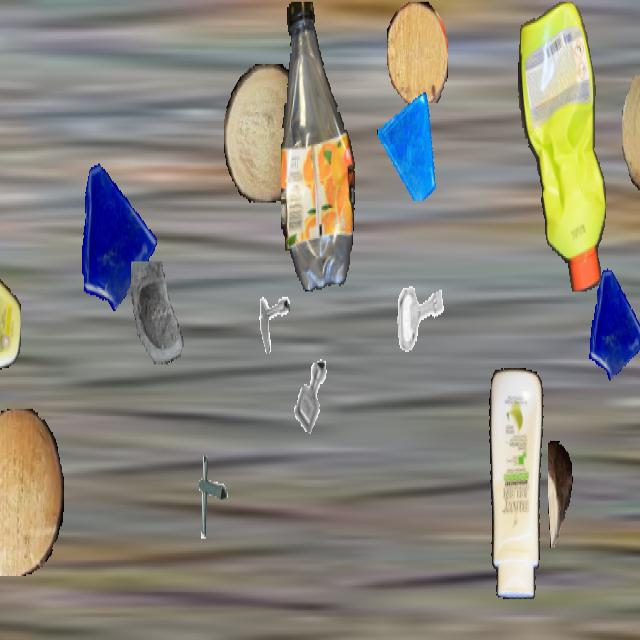glass: (69, 151, 159, 311), (125, 262, 193, 382), (377, 89, 439, 199), (583, 263, 640, 381), (0, 498, 3, 636)
metal: (389, 263, 449, 370), (283, 347, 339, 446), (184, 450, 236, 542), (248, 277, 290, 352)
plastic: (517, 2, 607, 290), (281, 2, 357, 290), (482, 368, 546, 599), (0, 259, 20, 377)
wood: (224, 64, 306, 203), (0, 409, 64, 576), (387, 2, 447, 105), (622, 41, 640, 204), (548, 441, 572, 547)
